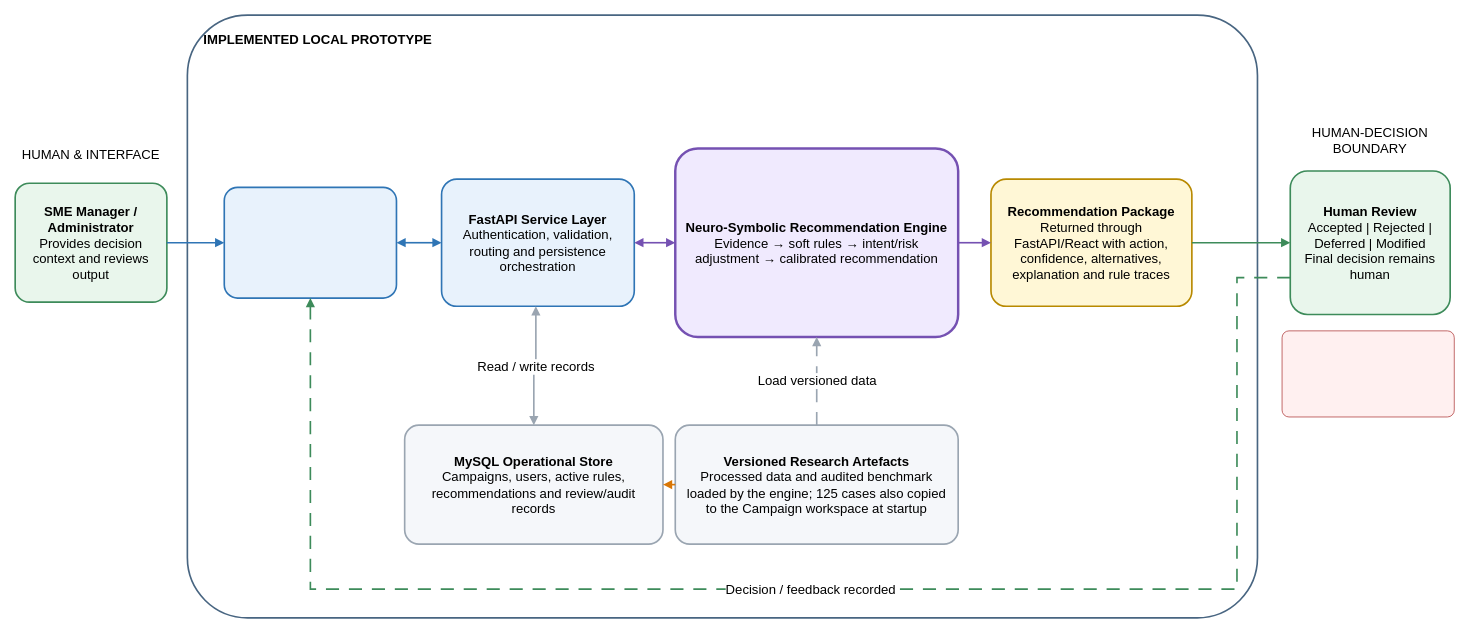
Some shapes in this 1473 by 632 pixel diagram are drawn without their labels. The shapes that lost their labels are listed below. From the top down, each one's box as (x1, y1, x2, y2) in pixels, then its label:
(223, 186, 397, 298): React Web Interface Campaign input, recommendation display and feedback capture
(1281, 330, 1454, 417): Decision support only: no marketing action is executed automatically.
